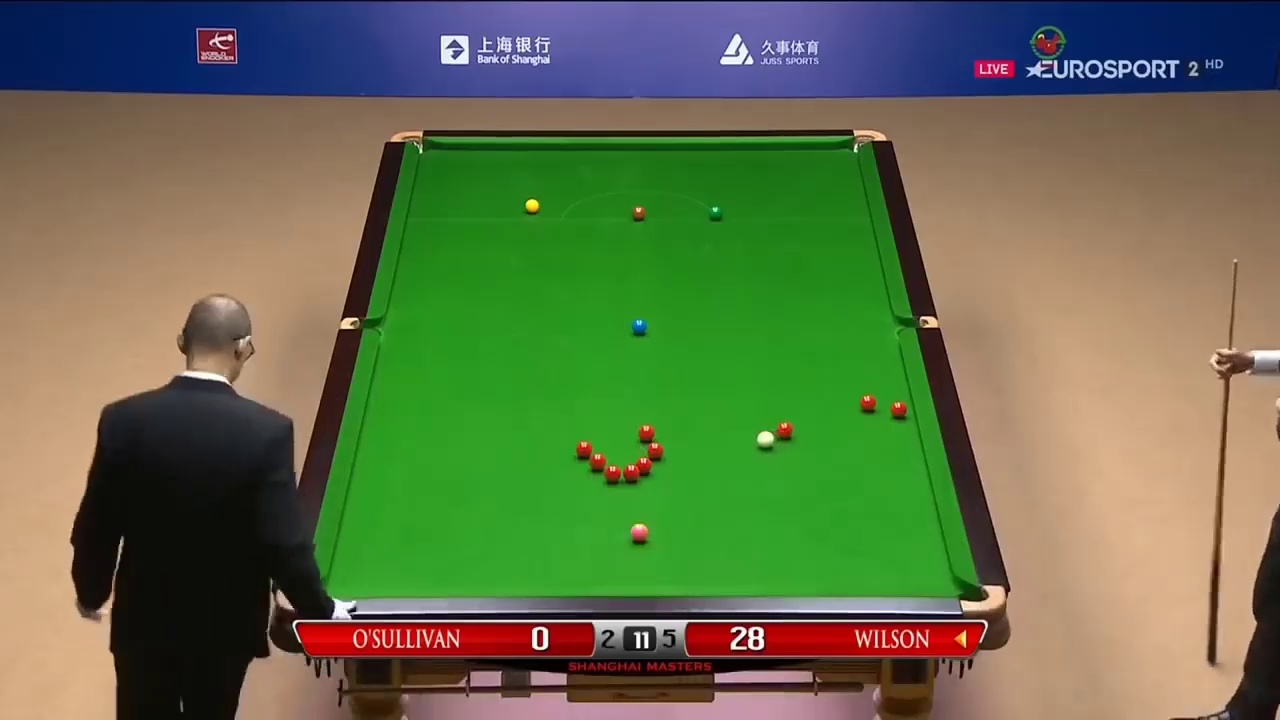ball: (753, 429, 777, 449), (888, 398, 906, 422), (522, 194, 541, 215), (630, 521, 648, 541), (575, 440, 593, 458), (631, 203, 646, 224), (638, 422, 656, 439), (858, 394, 875, 411), (707, 206, 723, 220), (633, 317, 648, 331)
